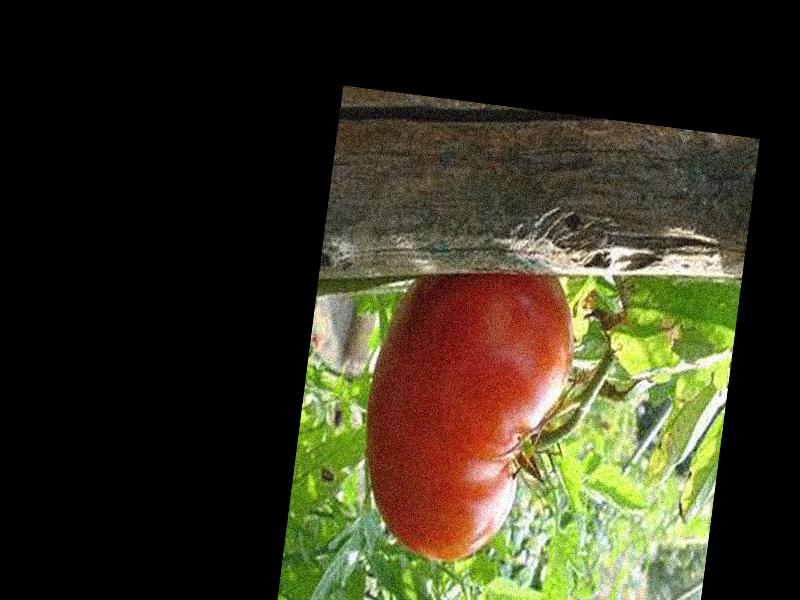Tomato: (351, 250, 583, 574)
